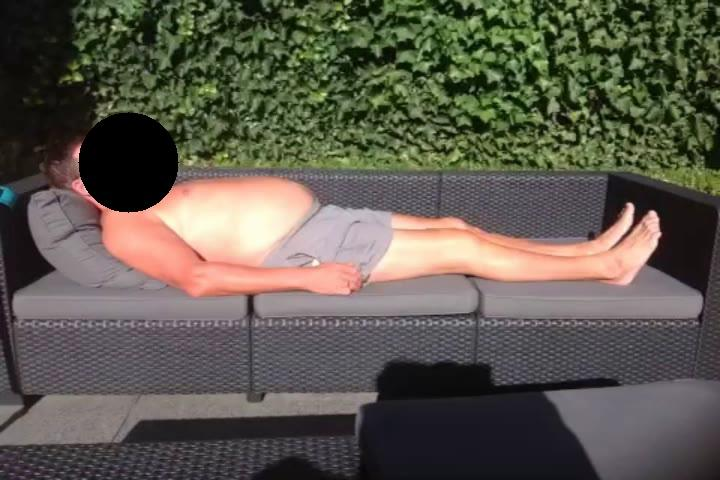lower_body: (291, 201, 664, 293)
